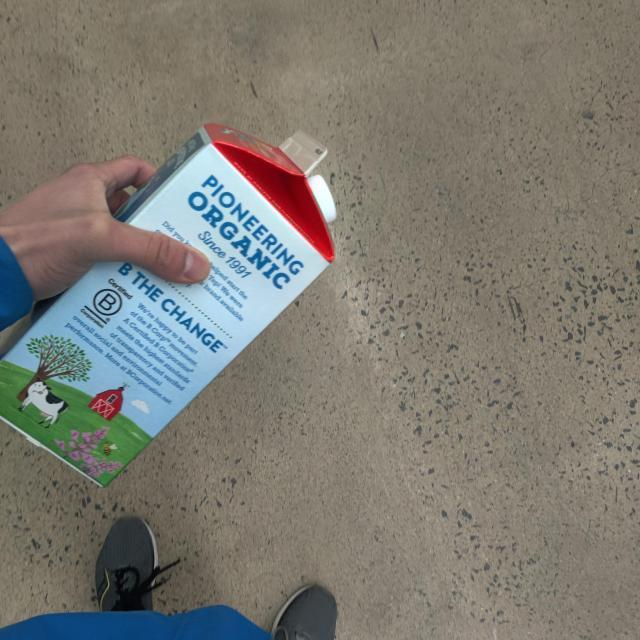Milk: (0, 126, 337, 493)
